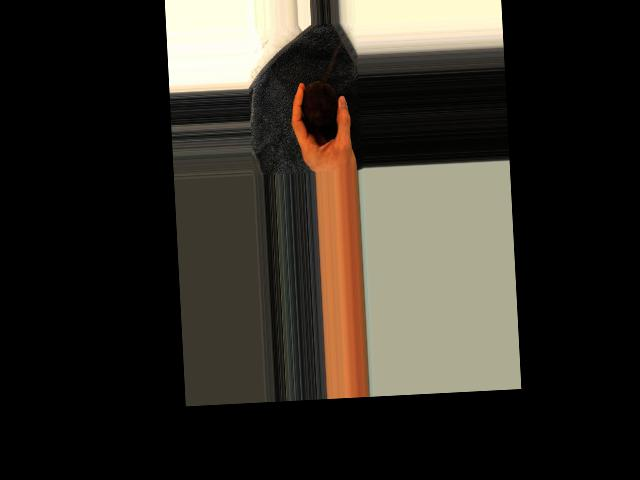beet: (301, 80, 339, 128)
